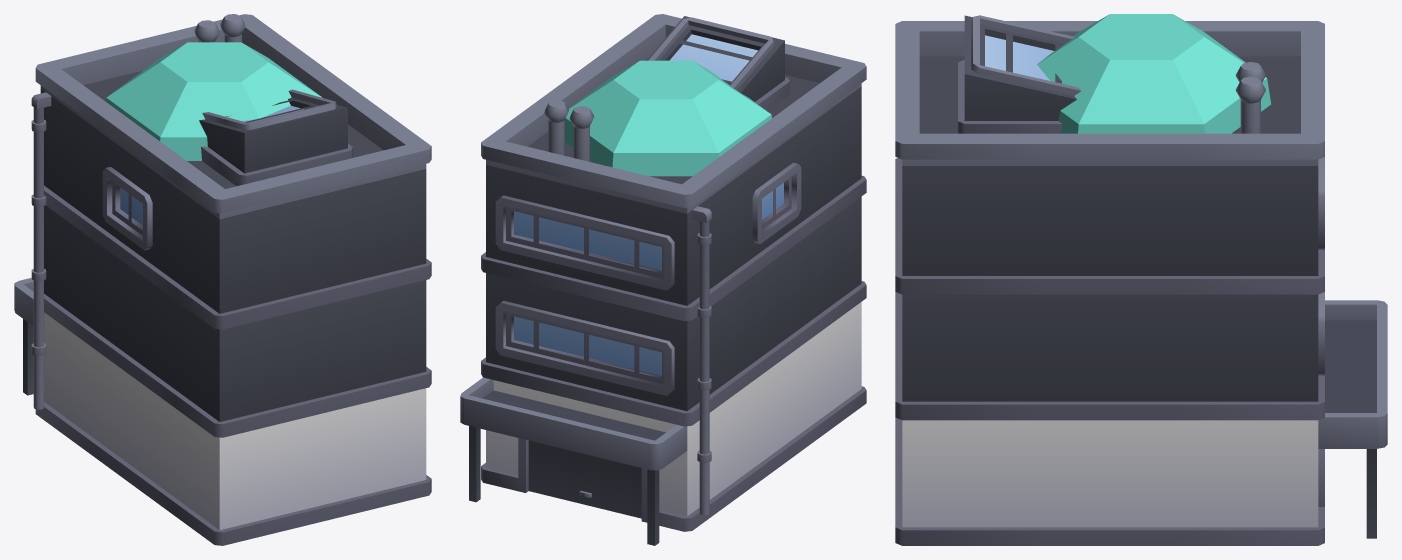
Rendered from agricola.glb.
The picture shows the model from 3 angles, left to right: view 1: azimuth 30°, elevation 25°; view 2: azimuth 150°, elevation 25°; view 3: azimuth 270°, elevation 25°; orthographic projection. The views are drawn at different scales.
Visible parts, largest first — view 1: building-d, tree_oak; view 2: building-d, tree_oak; view 3: building-d, tree_oak.
Boxes of the visible parts, <box> form: building-d: <box>14,14,431,545</box>; tree_oak: <box>105,42,322,160</box>; building-d: <box>460,14,866,545</box>; tree_oak: <box>565,60,771,176</box>; building-d: <box>895,15,1387,545</box>; tree_oak: <box>1037,14,1270,133</box>.
Size of the model in its own units: 3.75 by 6 by 6.02.
Materials: 13 (3 with a texture image).
